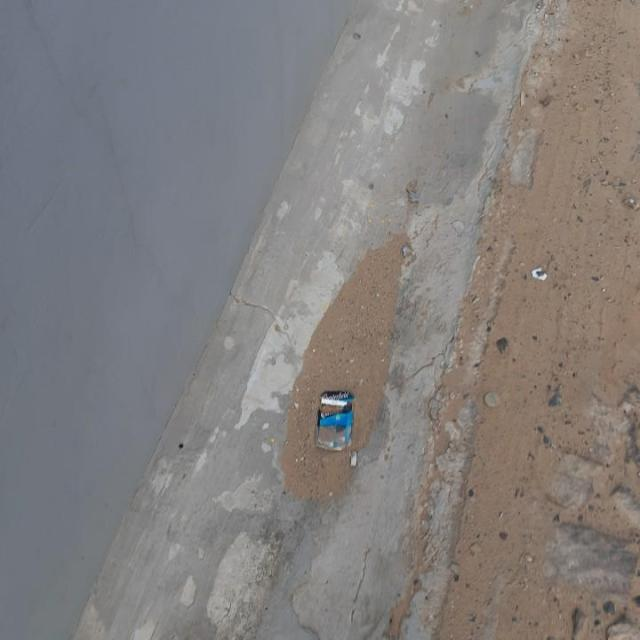litter: (312, 388, 356, 449)
